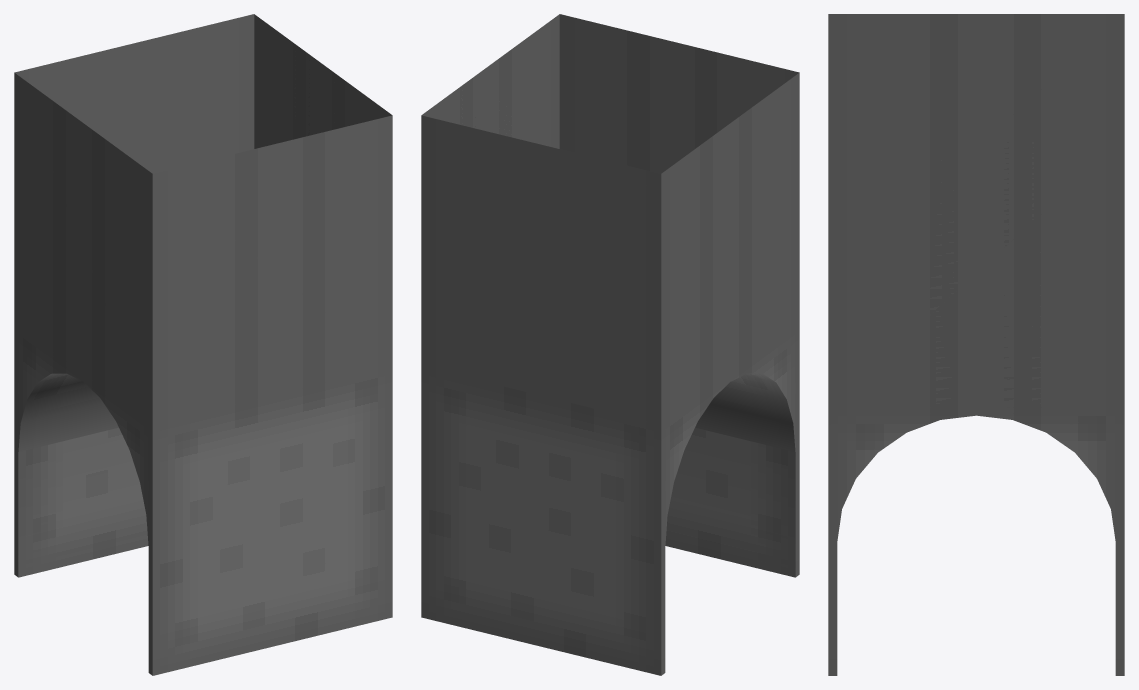
The model's file is mousehole_tunnel_hor_32x32.obj.
3 renders of one model, left to right at view 1: azimuth 30°, elevation 25°; view 2: azimuth 150°, elevation 25°; view 3: azimuth 270°, elevation 25°, orthographic. The views are drawn at different scales.
Visible parts, largest first — view 1: Mousehole.Entrance.001_Mousehole.Entrance; view 2: Mousehole.Entrance.001_Mousehole.Entrance; view 3: Mousehole.Entrance.001_Mousehole.Entrance.
Part boxes in pixels (x1,y1,x2,y2): Mousehole.Entrance.001_Mousehole.Entrance: (14, 14, 392, 675); Mousehole.Entrance.001_Mousehole.Entrance: (421, 14, 799, 675); Mousehole.Entrance.001_Mousehole.Entrance: (828, 14, 1124, 675).
Size of the model in its own units: 32 by 64 by 32.
